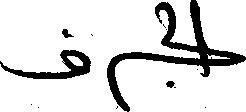X: (162, 0, 245, 111), (0, 24, 87, 111), (109, 48, 129, 111)
